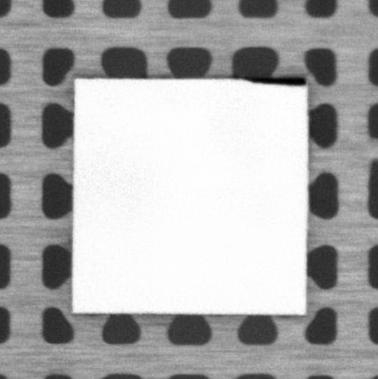DIE_BROKEN: (241, 74, 309, 87)
